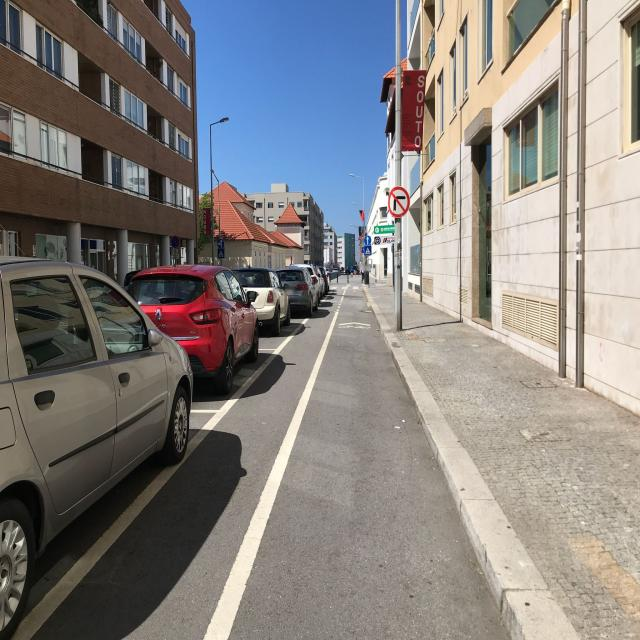forb_stopping: (170, 235, 180, 248)
